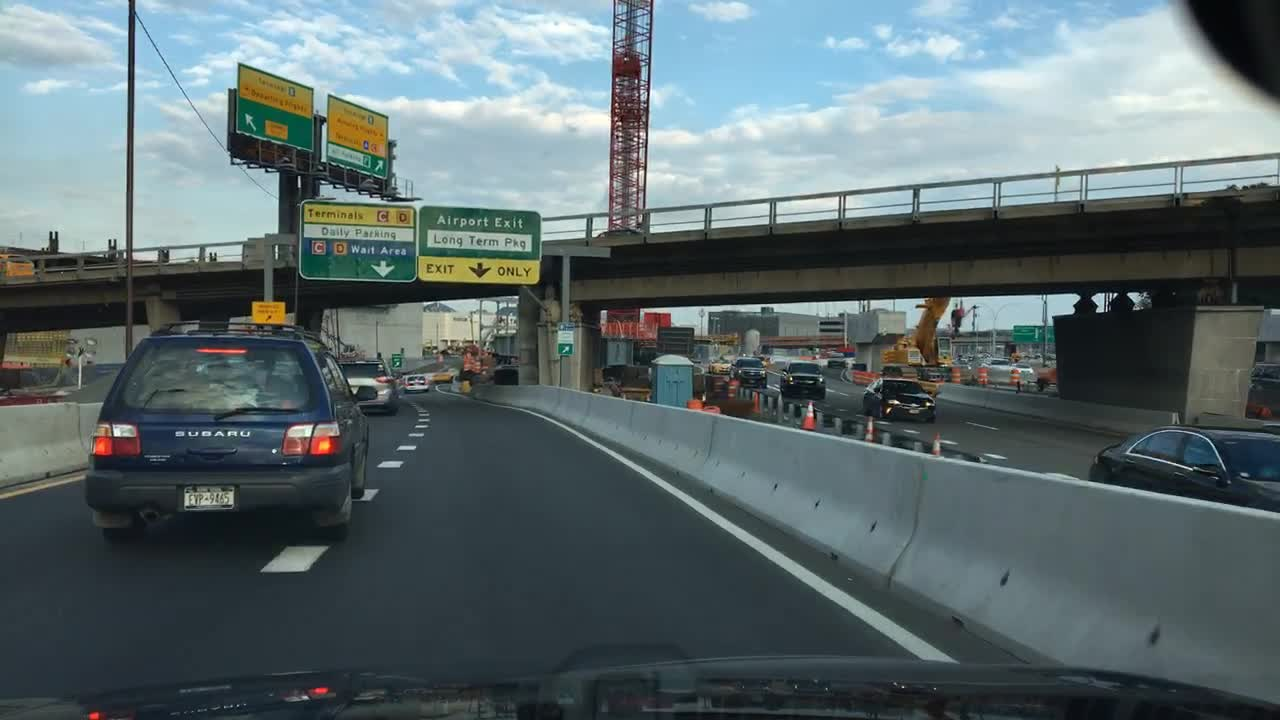car: (78, 316, 382, 547), (1084, 420, 1277, 523), (336, 356, 402, 417), (859, 375, 937, 424), (1240, 358, 1277, 421), (776, 357, 828, 401), (973, 354, 1034, 382), (726, 356, 769, 390), (0, 253, 35, 279), (1032, 362, 1061, 391), (878, 359, 920, 379), (914, 361, 950, 383), (431, 365, 466, 385), (591, 226, 643, 239), (705, 356, 734, 375), (826, 348, 849, 369), (749, 352, 770, 368), (957, 354, 971, 363), (1044, 351, 1057, 360)
traffic light: (954, 308, 964, 326)
traffic sign: (296, 196, 419, 285), (416, 203, 543, 285), (235, 60, 315, 154), (326, 92, 391, 179), (1012, 324, 1056, 344), (249, 300, 287, 323), (555, 320, 575, 355), (742, 328, 762, 354), (935, 335, 953, 360)
